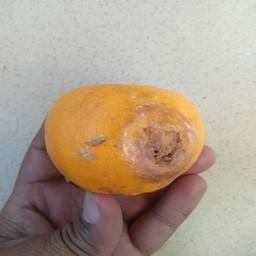Bad_orange: (40, 80, 209, 195)
